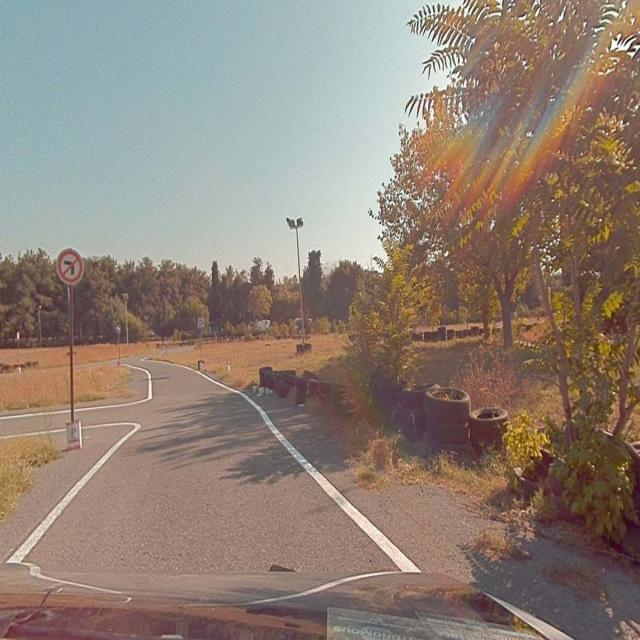durak: (198, 317, 204, 327)
soladonulmez: (56, 252, 83, 284)
